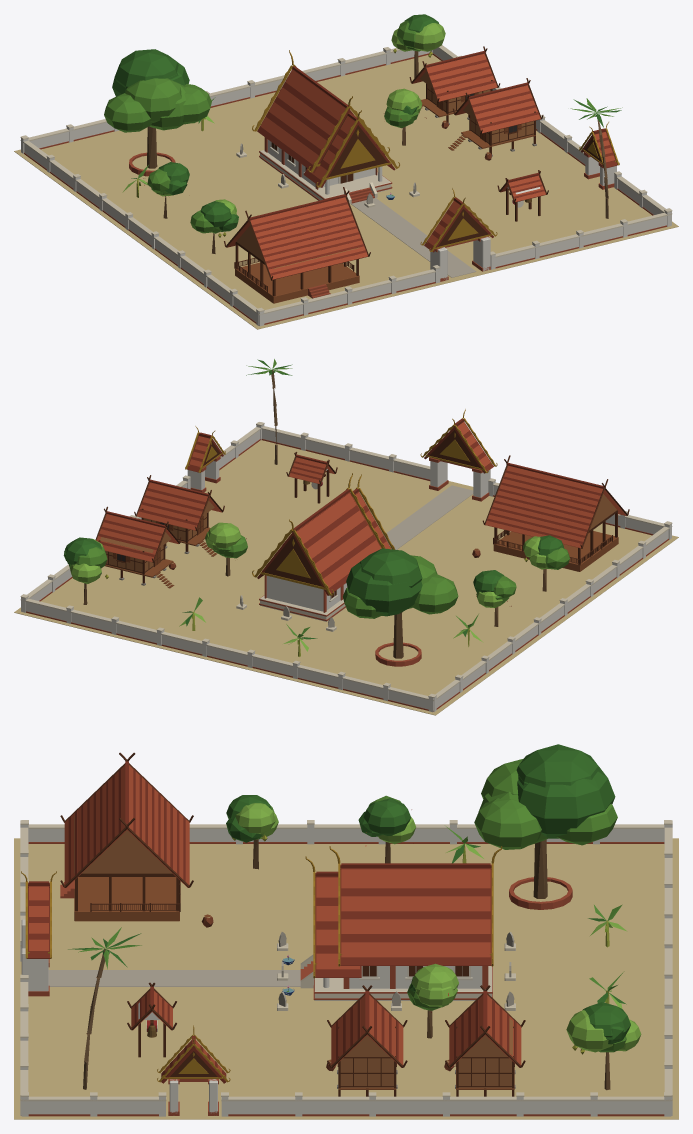
Rendered from temple_1.glb.
The picture shows the model from 3 angles, top to bottom: view 1: azimuth 30°, elevation 25°; view 2: azimuth 150°, elevation 25°; view 3: azimuth 270°, elevation 25°; orthographic projection. The views are drawn at different scales.
Visible parts, largest first — view 1: body; view 2: body; view 3: body.
Boxes of the visible parts, x1,y1,x2,y2 form: body: (14, 14, 678, 329); body: (14, 359, 678, 715); body: (14, 744, 678, 1119).
Bounding box in the file's own units: 47.9 × 11.89 × 47.9.
